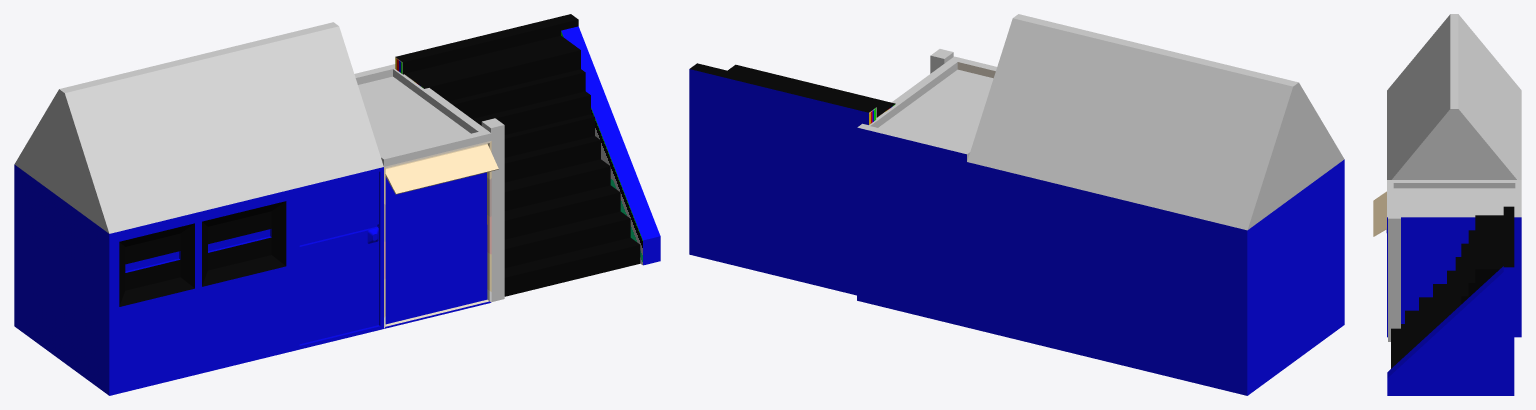
The model's file is SDG_SmallB01.fbx.
The picture shows the model from 3 angles, left to right: view 1: azimuth 30°, elevation 25°; view 2: azimuth 150°, elevation 25°; view 3: azimuth 270°, elevation 25°; orthographic projection. The views are drawn at different scales.
Visible parts, largest first — view 1: Box272; view 2: Box272; view 3: Box272.
Boxes of the visible parts, x1,y1,x2,y2 form: Box272: (14, 14, 660, 395); Box272: (689, 14, 1344, 395); Box272: (1373, 14, 1521, 395).
Size of the model in its own units: 161 by 75.22 by 52.93.
